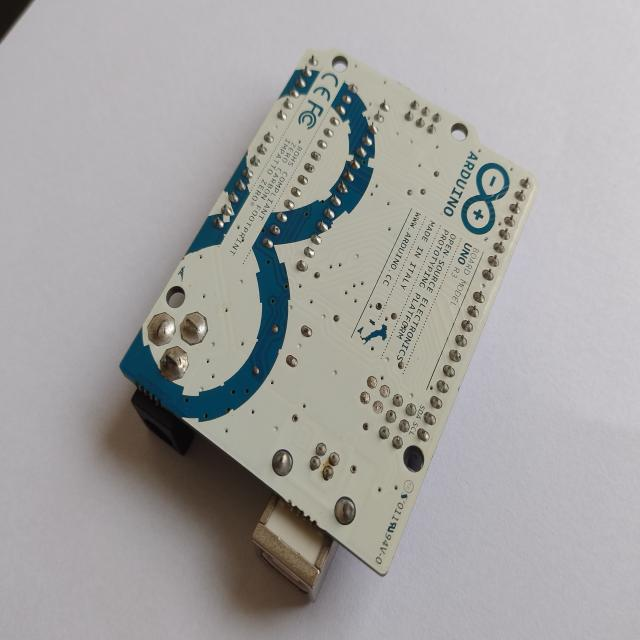arduino: (122, 43, 544, 610)
